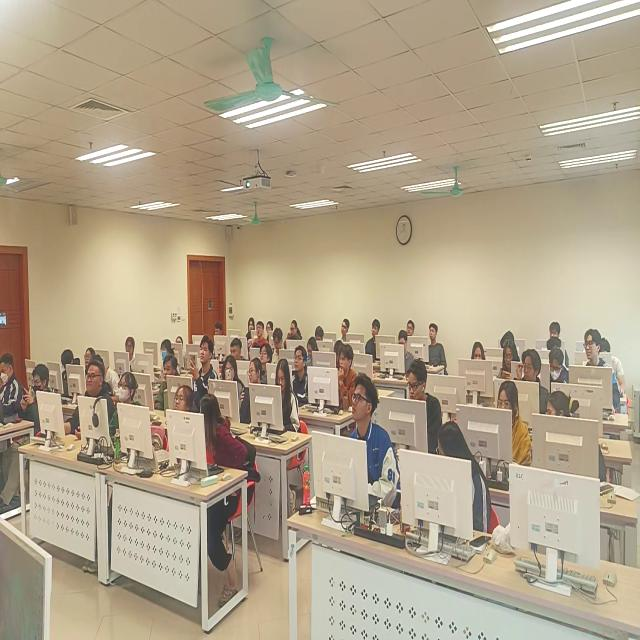raise_head: (351, 374, 400, 519), (577, 326, 623, 418), (74, 356, 116, 442), (408, 358, 443, 458), (517, 347, 551, 418), (112, 370, 147, 435), (174, 382, 198, 459), (333, 344, 360, 410), (156, 348, 183, 413), (289, 348, 312, 407), (428, 322, 449, 375), (549, 320, 571, 366), (472, 336, 487, 389), (365, 320, 383, 362), (124, 335, 139, 375), (82, 341, 98, 376), (338, 316, 353, 349), (175, 328, 188, 366), (502, 322, 517, 354), (254, 320, 267, 351), (246, 316, 256, 345), (407, 320, 416, 342), (267, 319, 274, 342)
using_computer: (495, 382, 533, 471), (271, 357, 301, 435), (1, 346, 23, 442), (599, 327, 626, 399), (56, 347, 82, 399), (547, 346, 572, 396), (396, 329, 419, 376), (307, 334, 322, 382), (160, 329, 176, 372), (230, 329, 246, 369), (274, 320, 288, 364), (207, 318, 225, 350), (287, 317, 304, 348), (544, 337, 568, 356), (316, 325, 326, 343)
using_phone: (22, 357, 57, 444), (188, 332, 219, 409), (222, 355, 246, 418), (500, 338, 524, 383)
